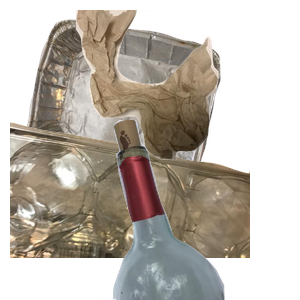glass: (89, 120, 300, 300)
metal: (23, 17, 236, 197)
plastic: (10, 120, 250, 300)
trash: (73, 10, 300, 163)
